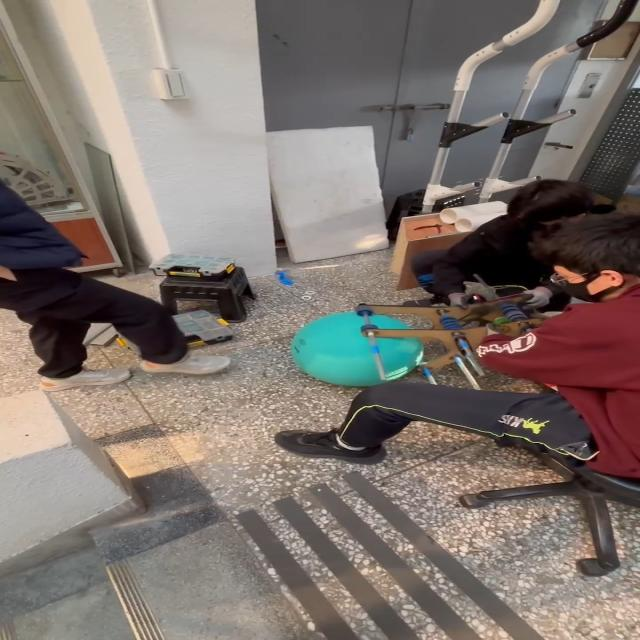ALGAE: (288, 310, 425, 388)
